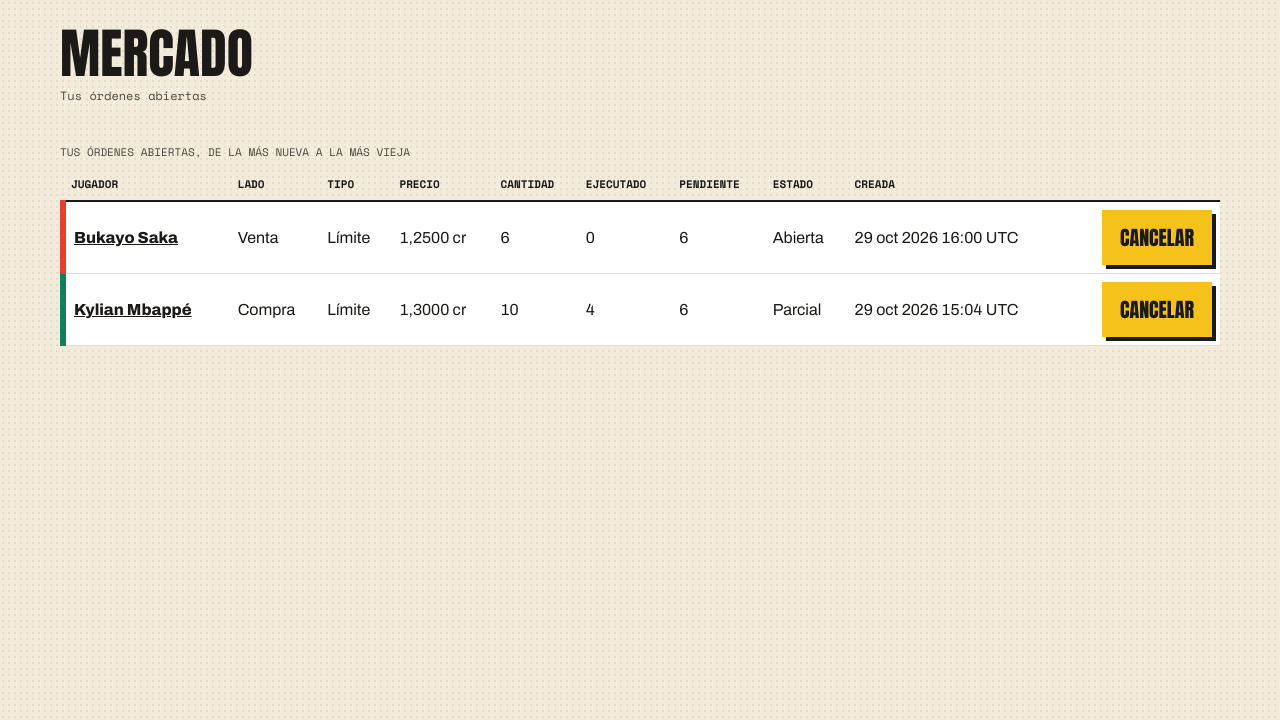
Test case: MarketPage › reloads the list after a 409 order_closed
Expected: the table is shown, x1=60 y1=144 x2=1220 y2=346
Step 1. Click the button with aria-label "Cancelar orden de venta de Bukayo Saka" → {"x": 1157, "y": 238}, box x1=1102 y1=210 x2=1212 y2=265
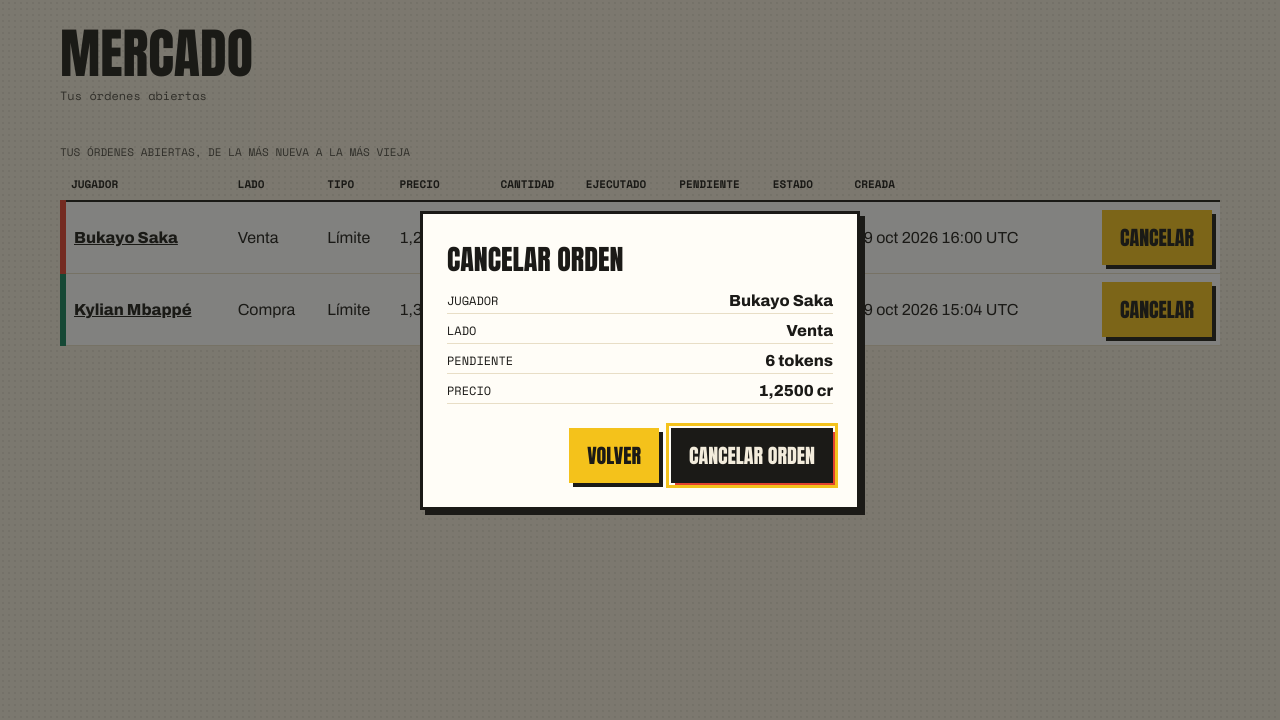
Step 2. Click the button "Cancelar orden" → {"x": 752, "y": 455}, box x1=671 y1=428 x2=833 y2=482
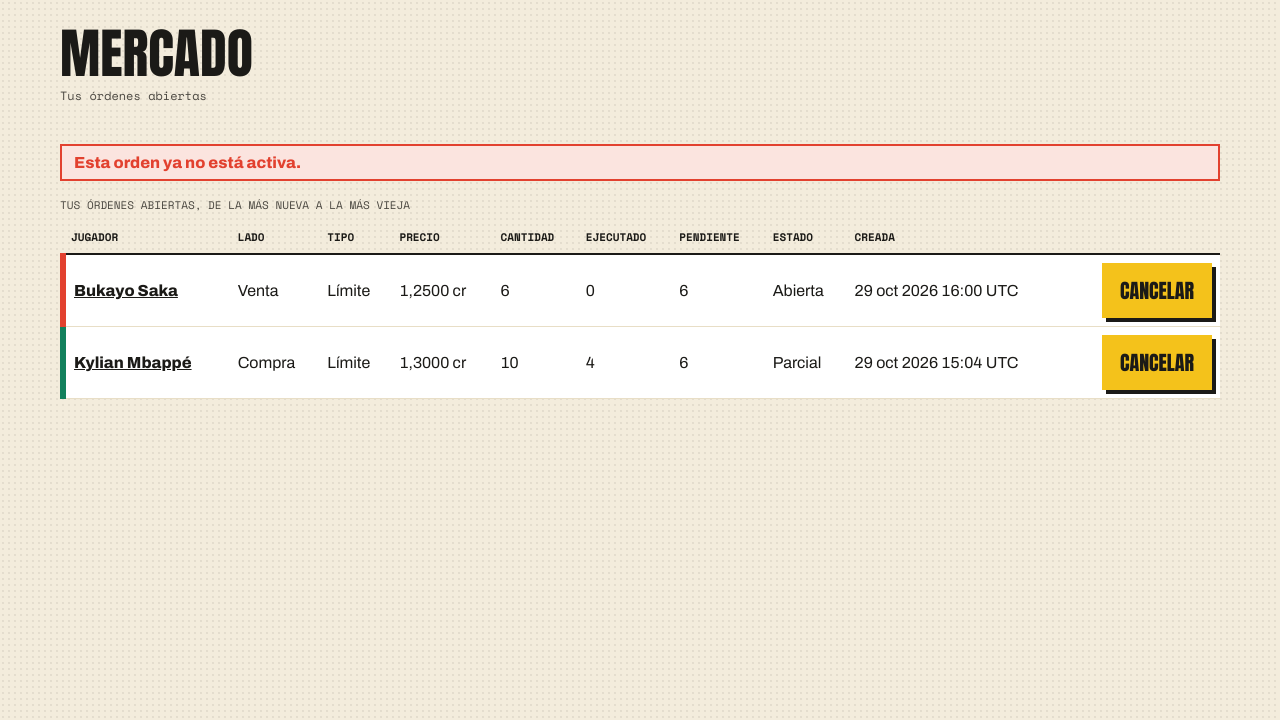
Expected: the message reads "Esta orden ya no está activa.", x1=74 y1=154 x2=301 y2=171
